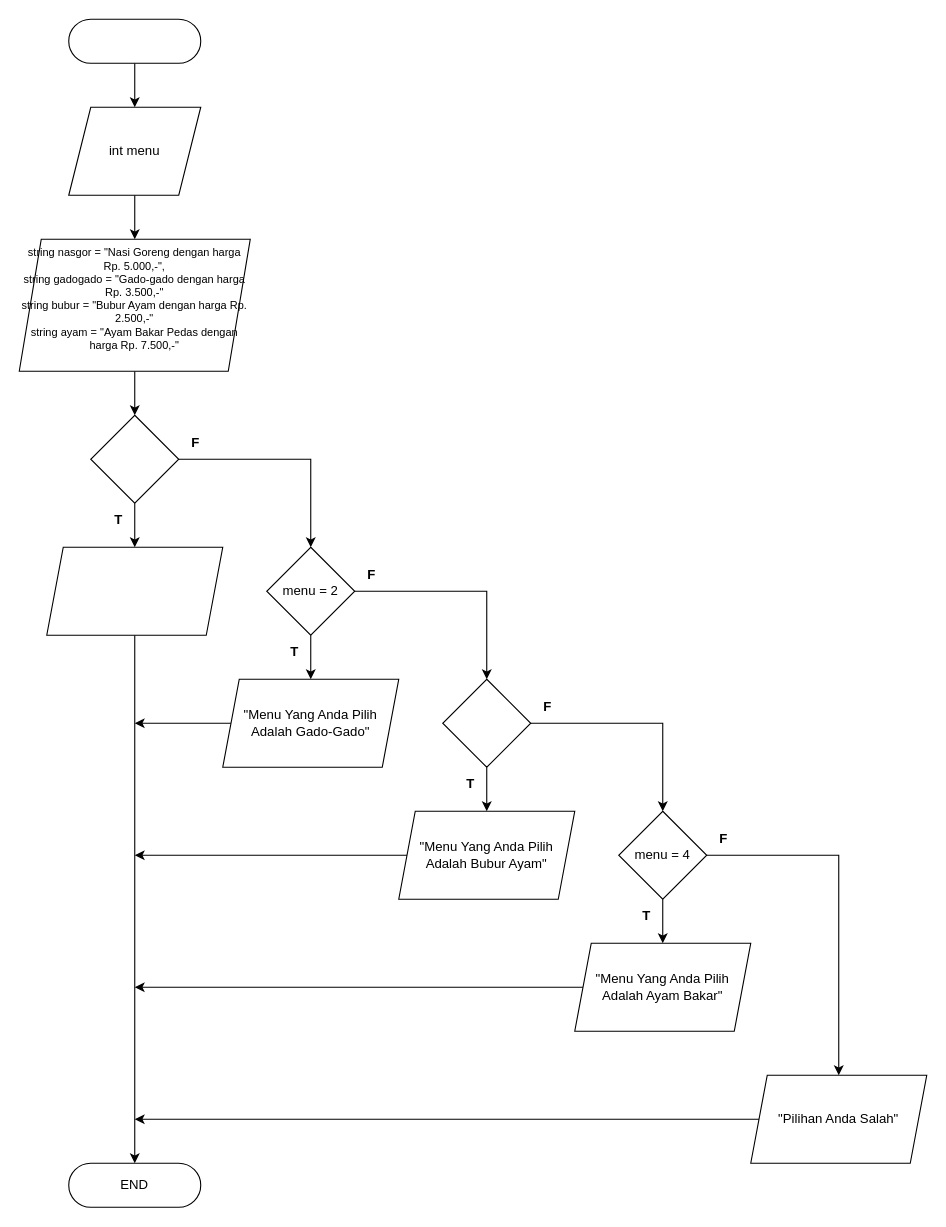
This 946x1227 diagram has some shape labels left out. Here are the shapes that lost their labels. From the top down, the box of each, then its label:
(68, 18, 201, 63): START
(90, 414, 179, 503): menu = 1
(46, 546, 223, 635): "Menu Yang Anda Pilih Adalah Nasi Goreng"
(442, 678, 531, 767): menu = 3
